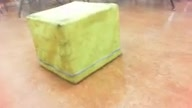cube: (26, 1, 121, 84)
